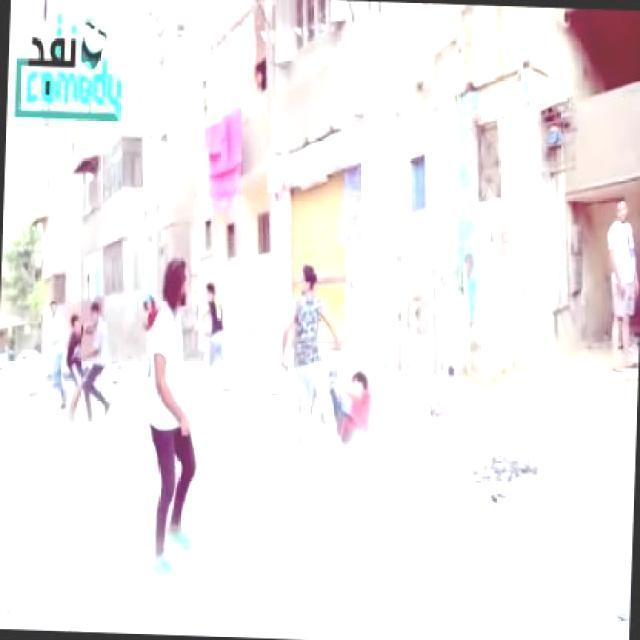fight: (64, 297, 118, 432)
non-fight: (139, 252, 207, 578), (268, 260, 350, 472), (186, 278, 248, 411), (598, 189, 638, 382)
